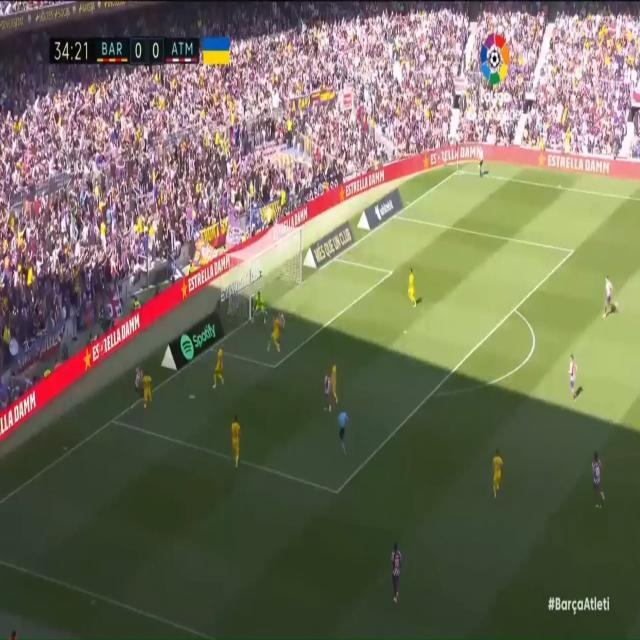ball: (188, 388, 197, 403)
goalkeeper: (250, 283, 268, 329)
player: (585, 445, 607, 513), (487, 444, 506, 501), (391, 534, 405, 607), (228, 409, 243, 472), (600, 271, 618, 321), (142, 371, 159, 421), (212, 339, 227, 393), (266, 310, 282, 359), (564, 354, 580, 402), (330, 356, 344, 408), (132, 359, 144, 409), (407, 263, 420, 309), (321, 365, 331, 415), (277, 306, 287, 344)
referee: (335, 404, 351, 457), (476, 144, 486, 181)
